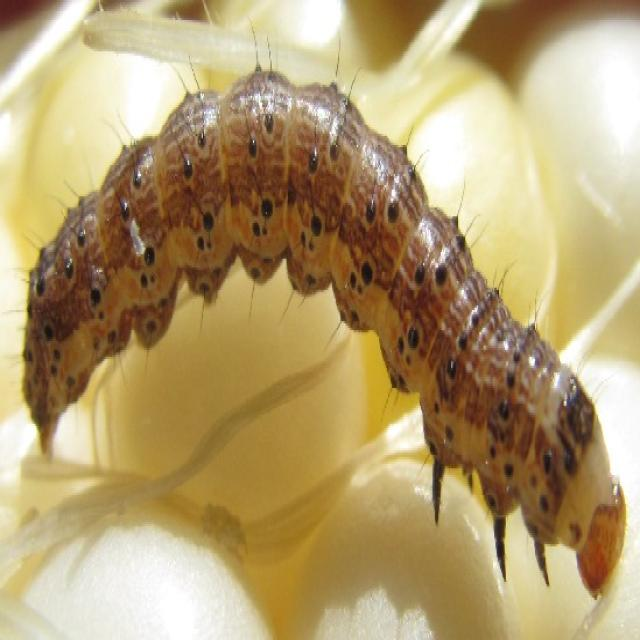Corn-earworm: (24, 71, 638, 603)
